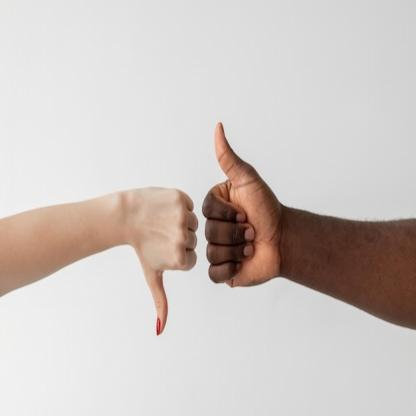thumb_down: (125, 165, 199, 338)
thumb_up: (203, 119, 282, 297)
